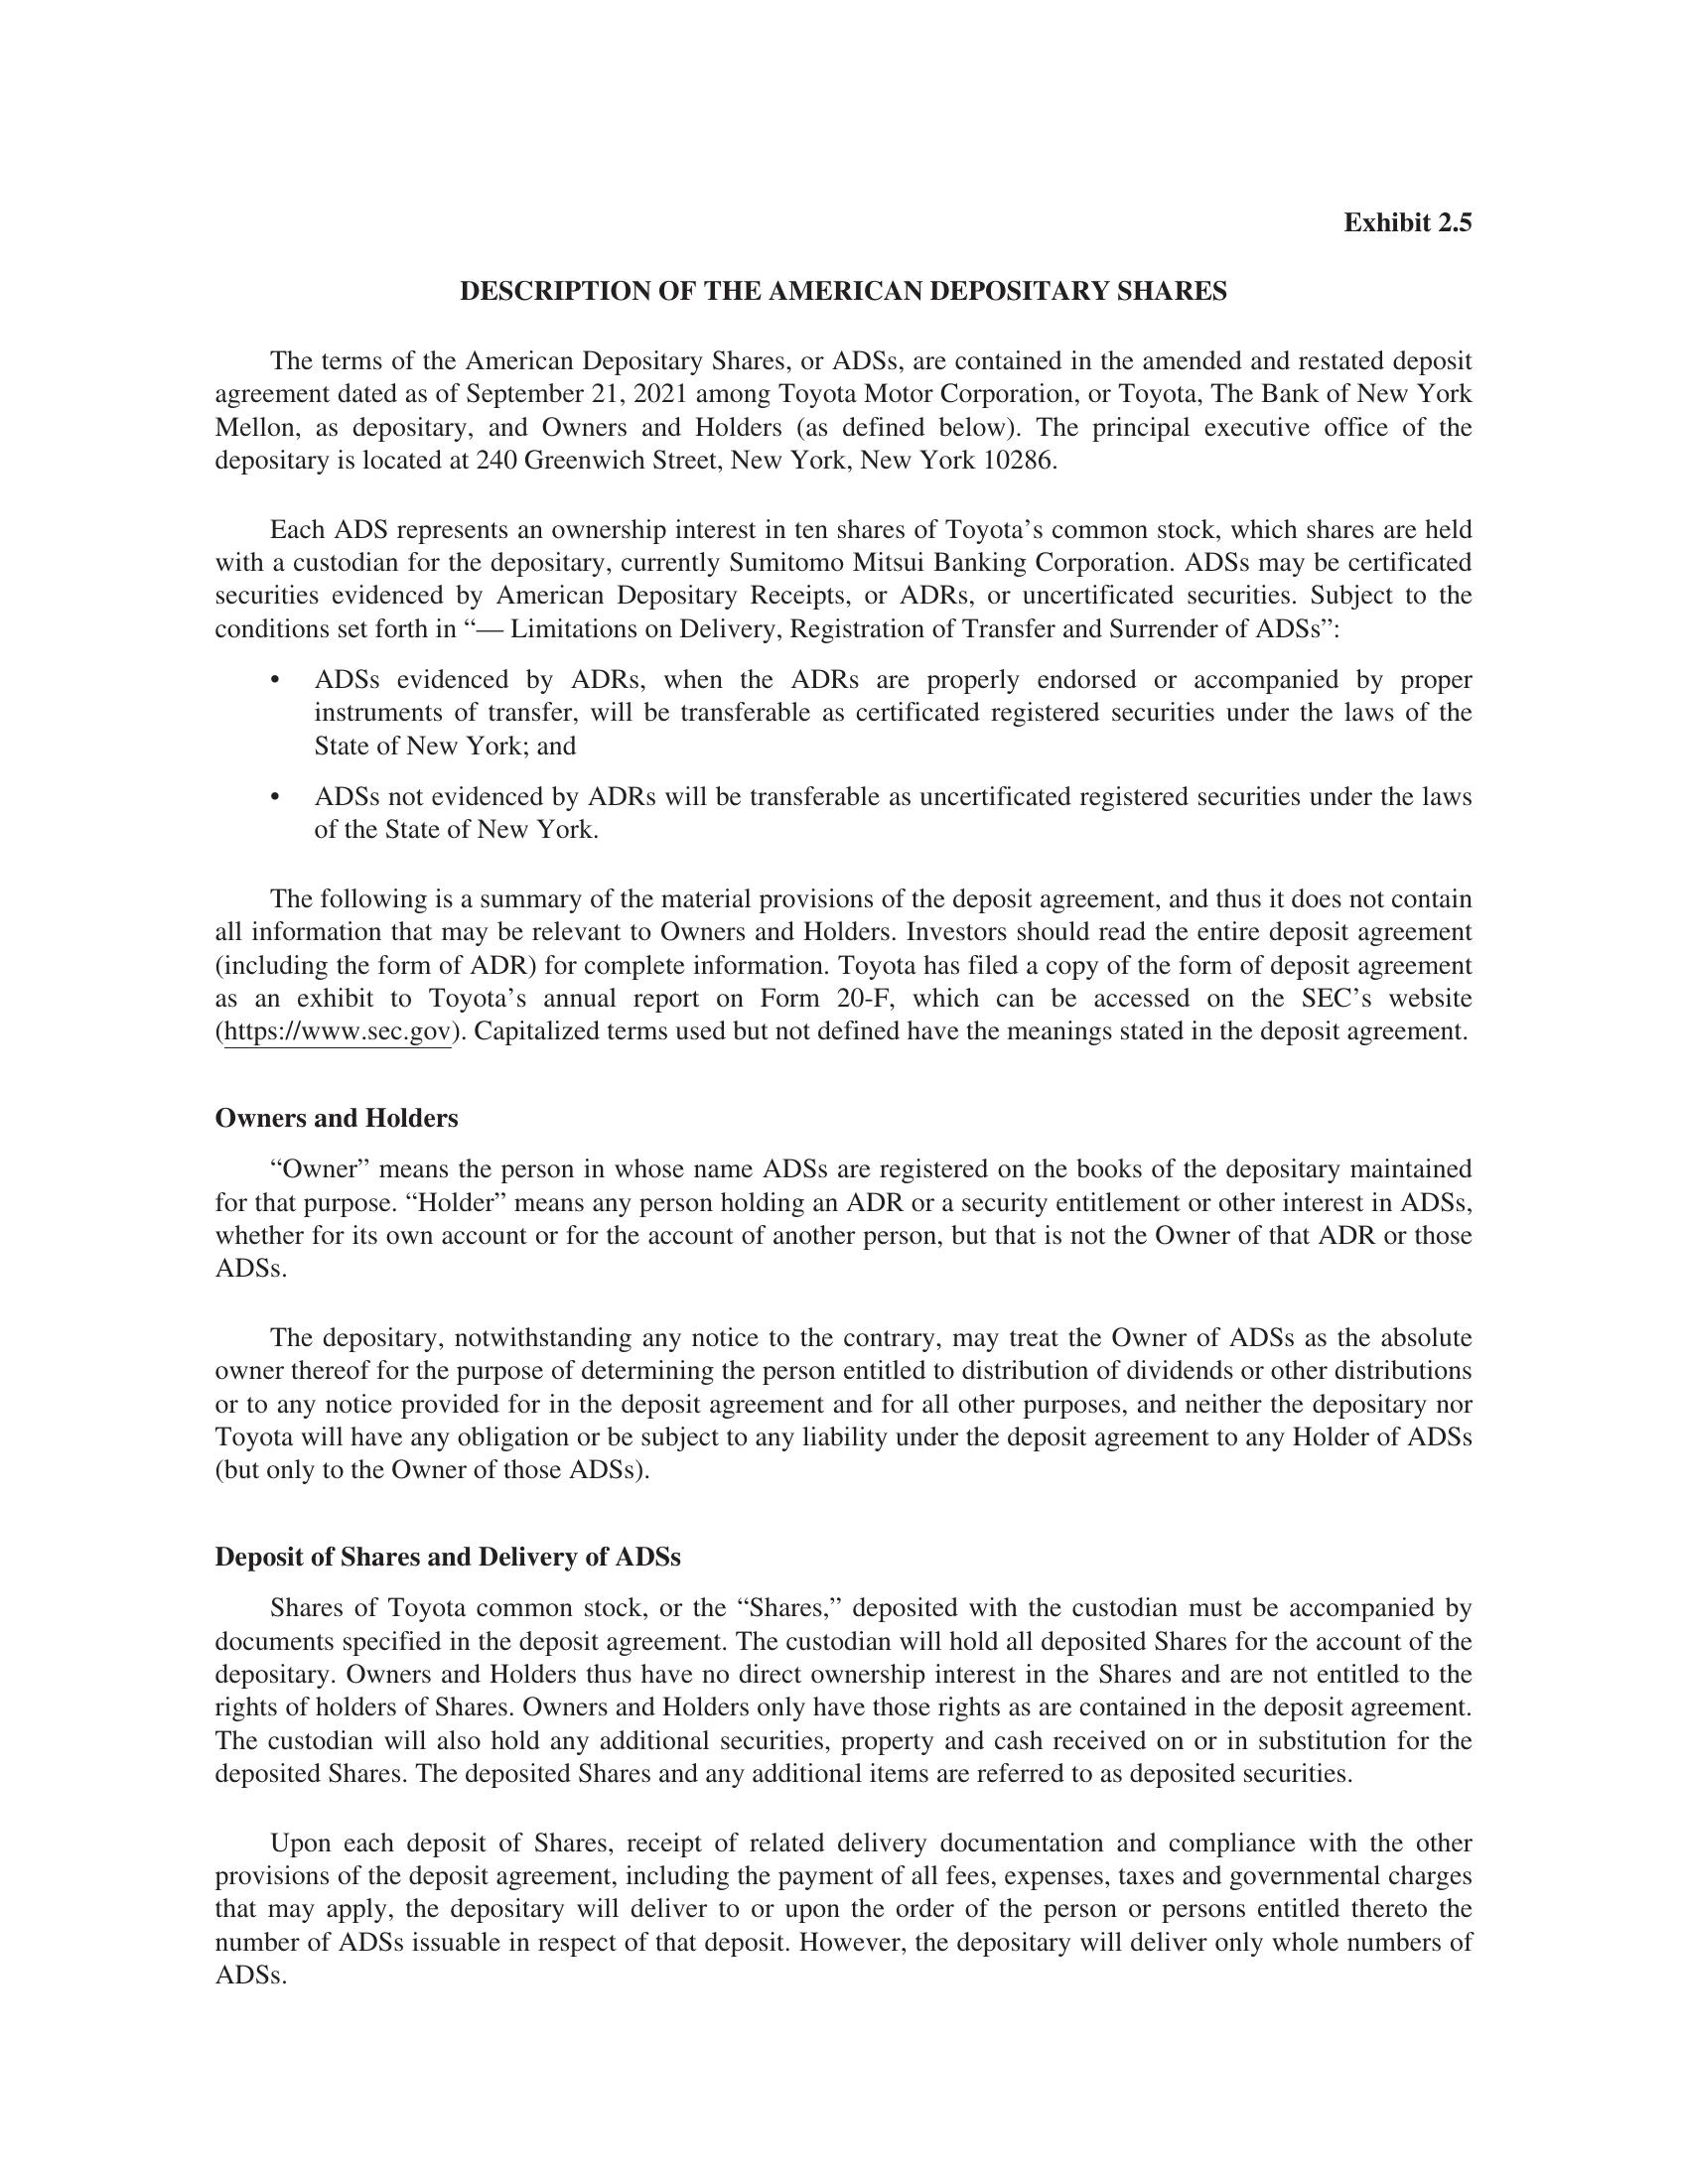Footer: (0, 2005, 1688, 2184)
Header: (0, 0, 1688, 179)
